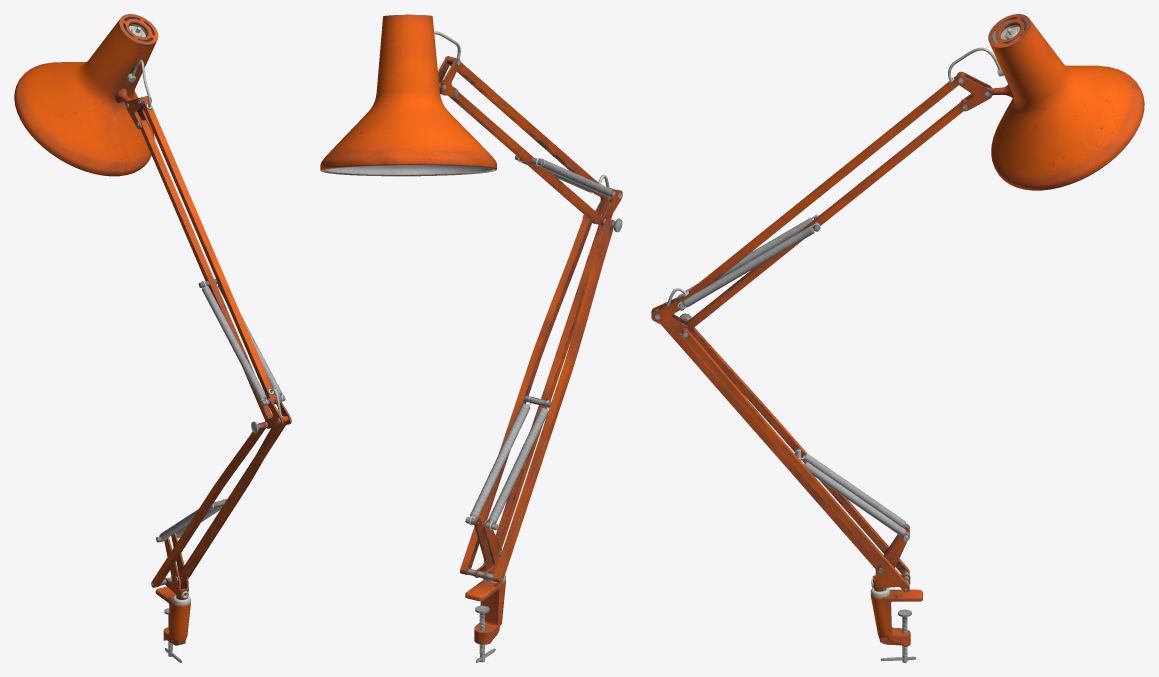
File: desk-lamp.glb
3 renders of one model, left to right at view 1: azimuth 30°, elevation 25°; view 2: azimuth 150°, elevation 25°; view 3: azimuth 270°, elevation 25°, orthographic. The views are drawn at different scales.
Visible parts, largest first — view 1: desk_lamp_arm_01; view 2: desk_lamp_arm_01; view 3: desk_lamp_arm_01.
Part boxes in pixels (box(x1,y1,x2,y2)): desk_lamp_arm_01: box(14, 14, 291, 662); desk_lamp_arm_01: box(320, 14, 622, 662); desk_lamp_arm_01: box(651, 14, 1144, 662).
Bounding box in the file's own units: 0.2017 × 0.8926 × 0.6139.
Materials: 2 (2 with a texture image).
